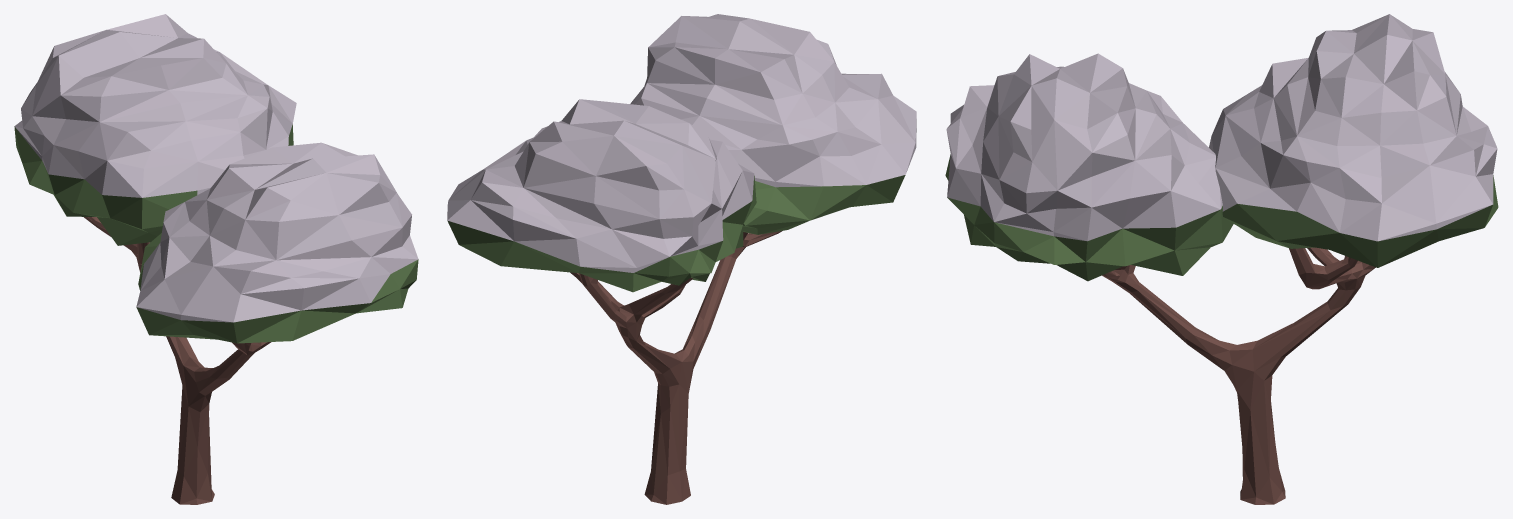
The model's file is CommonTree_Snow_1.lod1.glb.
3 renders of one model, left to right at view 1: azimuth 30°, elevation 25°; view 2: azimuth 150°, elevation 25°; view 3: azimuth 270°, elevation 25°, orthographic. The views are drawn at different scales.
Parts seen in each view (by area): view 1: CommonTree_Snow_1; view 2: CommonTree_Snow_1; view 3: CommonTree_Snow_1.
Boxes of the visible parts, <box> form: CommonTree_Snow_1: <box>14,14,418,504</box>; CommonTree_Snow_1: <box>447,14,916,504</box>; CommonTree_Snow_1: <box>945,14,1498,504</box>.
Bounding box in the file's own units: 1.89 × 2.51 × 2.77.
